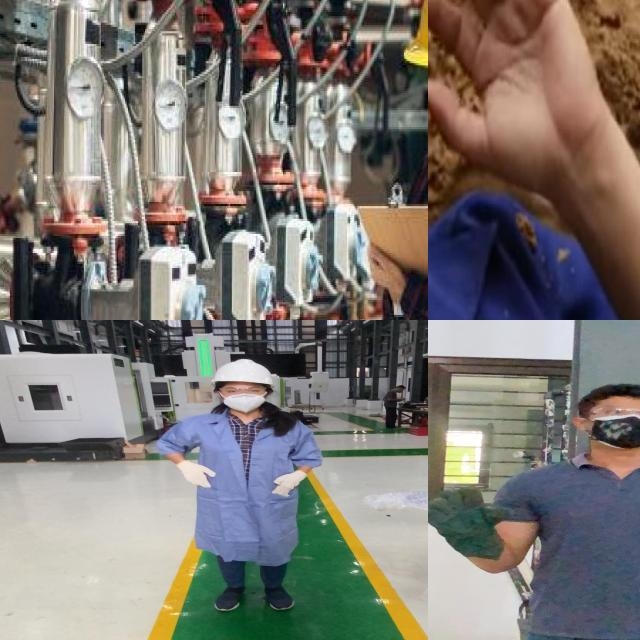face_mask: (580, 401, 640, 447), (219, 385, 271, 413)
glasses: (577, 405, 640, 421), (213, 382, 269, 397)
hand_glove: (428, 483, 511, 543), (174, 459, 222, 494), (267, 469, 310, 497)
hand_noglove: (361, 244, 414, 302)
head_helmet: (207, 357, 276, 386)
head_nohelmet: (580, 381, 640, 409)
person: (151, 356, 350, 622), (483, 377, 640, 640), (358, 0, 428, 320)
shoes: (253, 580, 299, 612), (206, 582, 251, 614)
